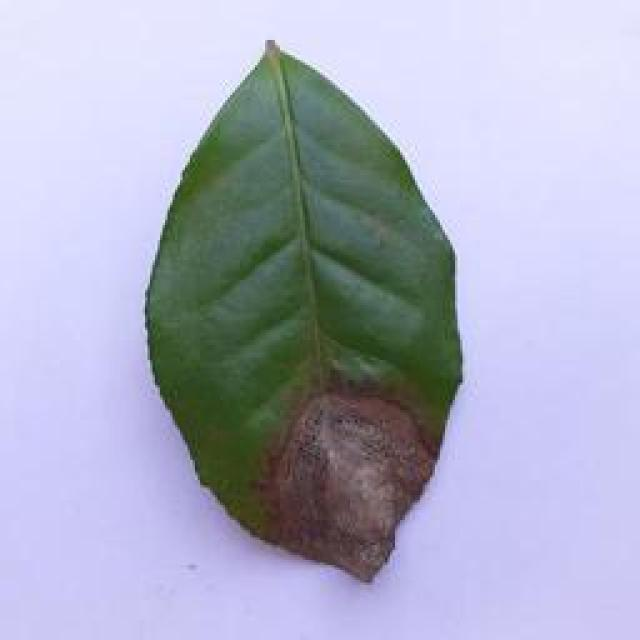Gray Blight: (140, 34, 472, 587)
